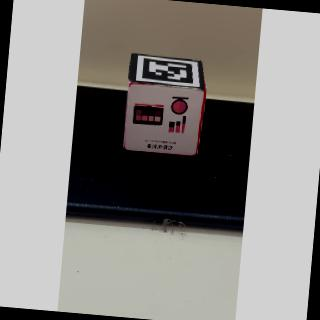Expired_Cosmetic: (124, 84, 204, 158)
